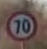limite 70: (6, 8, 36, 41)
